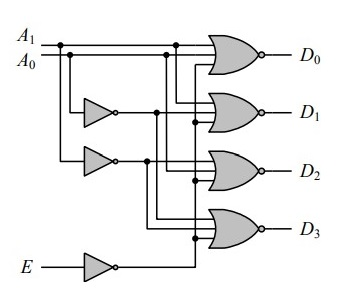not: (77, 141, 120, 180), (77, 93, 120, 131), (77, 249, 120, 285)
or: (203, 30, 268, 79), (204, 205, 268, 253), (204, 88, 267, 136), (204, 146, 267, 194)
